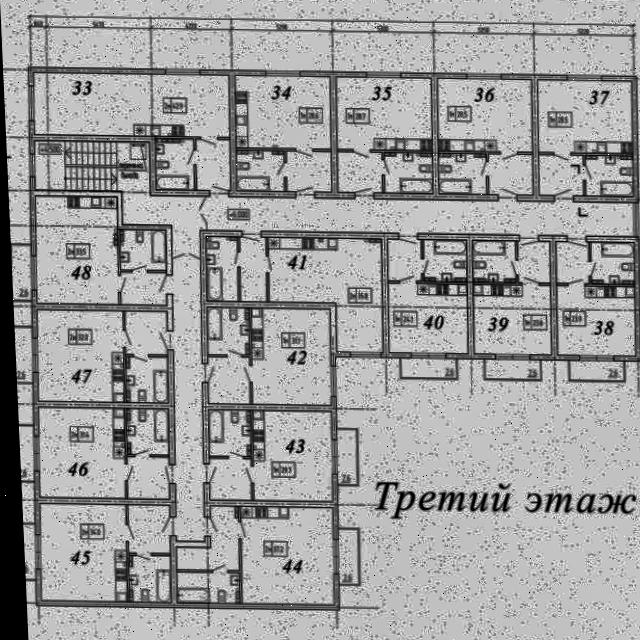room: (0, 128, 640, 591), (269, 236, 386, 351), (34, 72, 231, 136), (244, 504, 338, 607), (37, 194, 121, 306), (43, 502, 131, 604), (41, 405, 129, 501), (39, 307, 126, 404), (253, 306, 334, 406), (255, 407, 336, 502), (537, 78, 635, 152), (235, 74, 332, 148), (437, 76, 534, 150), (336, 76, 433, 149), (474, 283, 555, 354), (389, 282, 471, 352), (558, 284, 639, 354), (180, 505, 244, 570), (209, 305, 252, 356), (131, 503, 174, 554), (208, 235, 240, 301), (210, 355, 253, 404), (132, 554, 175, 603), (236, 149, 286, 191), (384, 151, 435, 192), (156, 138, 195, 191), (128, 355, 171, 403), (129, 407, 172, 455), (180, 571, 244, 603), (211, 408, 253, 456), (337, 150, 385, 192), (586, 153, 635, 194), (439, 152, 488, 193), (127, 310, 170, 355), (130, 455, 173, 500), (489, 152, 535, 194), (121, 229, 168, 270), (539, 153, 586, 194), (424, 238, 468, 281), (592, 240, 637, 282), (287, 150, 333, 191), (196, 138, 232, 190), (241, 236, 269, 302), (474, 239, 518, 281), (213, 457, 255, 500), (122, 272, 169, 305), (389, 237, 424, 281), (558, 239, 591, 282), (520, 239, 552, 282), (13, 244, 34, 301), (342, 528, 363, 584), (572, 358, 627, 379), (403, 357, 459, 377), (487, 358, 543, 378), (339, 428, 359, 484), (15, 327, 35, 383), (19, 426, 37, 481), (23, 523, 40, 580)
